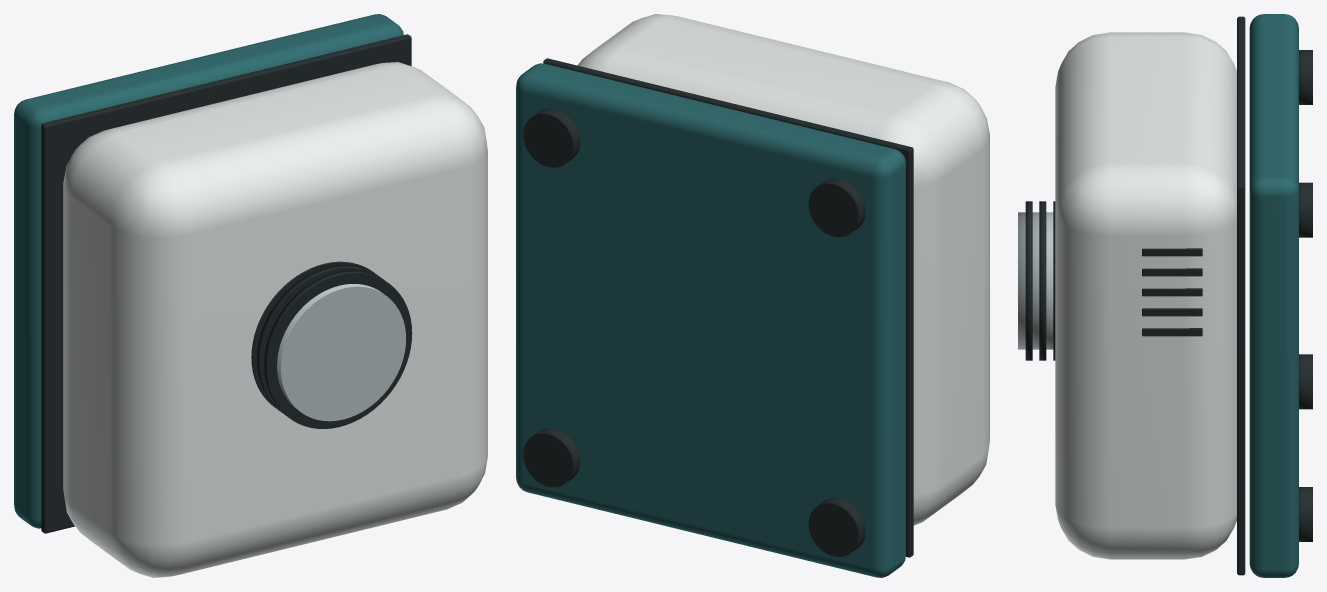
Rendered from body.glb.
3 renders of one model, left to right at view 1: azimuth 30°, elevation 25°; view 2: azimuth 150°, elevation 25°; view 3: azimuth 270°, elevation 25°, orthographic. The views are drawn at different scales.
Parts seen in each view (by area): view 1: housing, base, lower_seam, neck, cup_suspension_2, cup_suspension_1, cup_suspension_0; view 2: base, housing, lower_seam, foot_0_1, foot_1_1, foot_1_0, foot_0_0; view 3: housing, base, lower_seam, neck, cup_suspension_1, cup_suspension_2, foot_0_0, foot_1_1, foot_0_1, foot_1_0, vent_1, vent_2 (+4 smaller).
Boxes of the visible parts, <box> form: housing: <box>63,62,487,577</box>; base: <box>14,14,403,528</box>; lower_seam: <box>41,34,411,533</box>; neck: <box>277,284,406,421</box>; cup_suspension_2: <box>263,270,412,428</box>; cup_suspension_1: <box>256,265,381,412</box>; cup_suspension_0: <box>251,261,373,407</box>; base: <box>516,63,905,577</box>; housing: <box>577,14,989,525</box>; lower_seam: <box>543,58,913,557</box>; foot_0_1: <box>808,178,865,237</box>; foot_1_1: <box>523,108,580,167</box>; foot_1_0: <box>523,428,580,487</box>; foot_0_0: <box>808,498,865,556</box>; housing: <box>1055,32,1236,559</box>; base: <box>1249,14,1298,577</box>; lower_seam: <box>1237,16,1245,575</box>; neck: <box>1018,212,1053,349</box>; cup_suspension_1: <box>1039,201,1046,360</box>; cup_suspension_2: <box>1025,201,1032,360</box>; foot_0_0: <box>1299,354,1312,409</box>; foot_1_1: <box>1299,182,1312,237</box>; foot_0_1: <box>1299,50,1312,104</box>; foot_1_0: <box>1299,487,1312,541</box>; vent_1: <box>1142,308,1202,316</box>; vent_2: <box>1142,288,1202,296</box>.
Size of the model in its own units: 0.15 by 0.1632 by 0.107.
